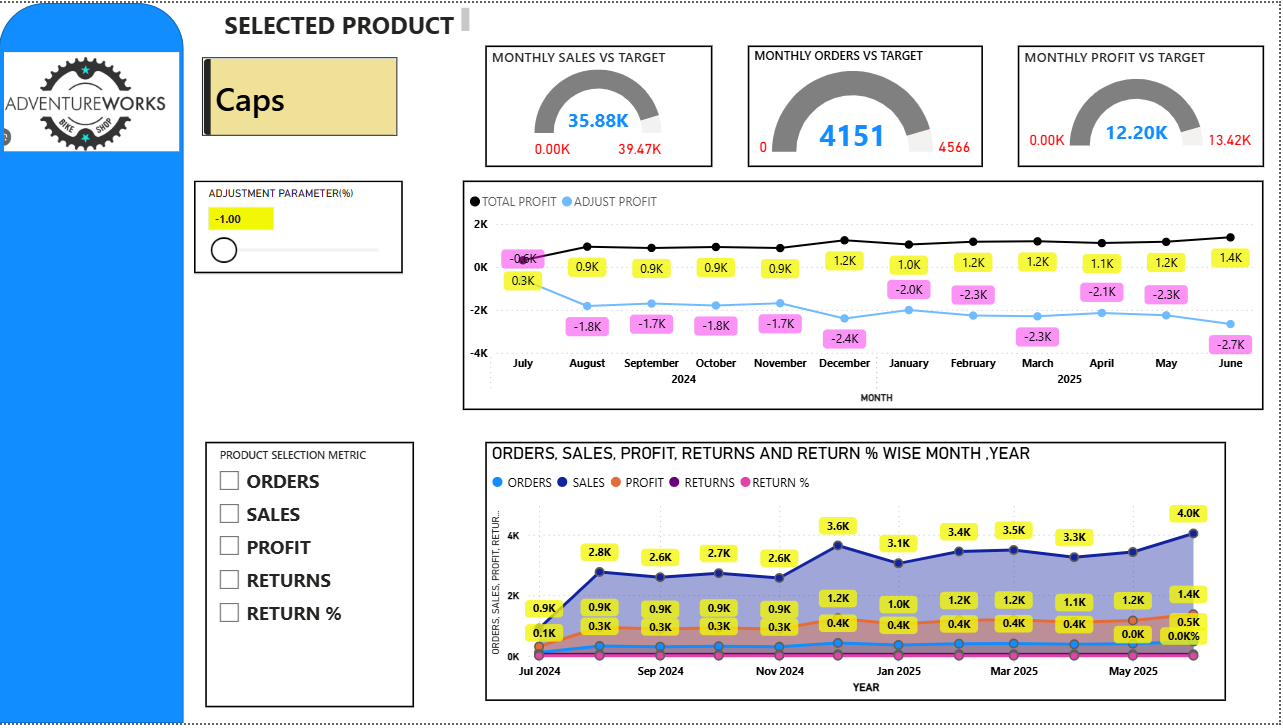

What the dashboard file says about the page in this screenshot:
{"tool":"powerbi","page":{"name":" SUB. PRODUCT ANALYSIS","canvas":[1280,720],"ordinal":3},"visuals":[{"type":"shape","box":[0,0,184.6,720.2],"z":0},{"type":"image","box":[4.8,47.1,174.9,102.5],"z":1000},{"type":"textbox","box":[219.6,0,255.8,37.4],"z":2000},{"type":"cardVisual","fields":{"Data":["Min(Product Subcategories Lookup csv.SubcategoryName)"]},"box":[185.8,37.4,229.2,112.2],"z":3000},{"type":"gauge","title":"MONTHLY SALES VS TARGET","fields":{"Y":["ALL MEASURES.TOTAL SALES"],"MaxValue":["ALL MEASURES.TARGET SALES"]},"box":[486.2,42.2,226.8,121.9],"z":4000},{"type":"gauge","title":"MONTHLY ORDERS VS TARGET","fields":{"Y":["ALL MEASURES.TOTAL ORDERS"],"MaxValue":["ALL MEASURES.TARGET ORDER"]},"box":[749.2,42.2,235.3,121.9],"z":5000},{"type":"gauge","title":"MONTHLY PROFIT VS TARGET","fields":{"Y":["ALL MEASURES.TOTAL PROFIT"],"MaxValue":["ALL MEASURES.TARGET PROFIT"]},"box":[1018.2,42.2,246.1,121.9],"z":6000},{"type":"slicer","fields":{"Values":["ADJUSTMENT PARAMETER(%).ADJUSTMENT PARAMETER(%)"]},"box":[195.4,177.3,208.7,92.9],"z":7000},{"type":"lineChart","fields":{"Y":["ALL MEASURES.TOTAL PROFIT","ALL MEASURES.ADJUST PROFIT"],"Category":["Calendar Lookup (1) csv.start of month.Variation.Date Hierarchy.Year","Calendar Lookup (1) csv.start of month.Variation.Date Hierarchy.Month"]},"box":[463.3,177.3,801.1,229.2],"z":8000},{"type":"areaChart","title":" ORDERS,  SALES,  PROFIT,  RETURNS AND RETURN %  WISE MONTH ,YEAR","fields":{"Y":["ALL MEASURES.TOTAL ORDERS","ALL MEASURES.TOTAL SALES","ALL MEASURES.TOTAL PROFIT","ALL MEASURES.TOTAL RETURNS","ALL MEASURES.RETURN %"],"Category":["Calendar Lookup (1) csv.start of month.Variation.Date Hierarchy.Year","Calendar Lookup (1) csv.start of month.Variation.Date Hierarchy.Month"]},"box":[486.2,439.1,740.8,259.4],"z":9000},{"type":"slicer","fields":{"Values":["PRODUCT SELECTION METRIC.PRODUCT SELECTION METRIC"]},"box":[206.3,439.1,208.7,265.4],"z":10000}]}

Visuals, with their boxes in screenshot pixels (x1, y1, x2, y2), scaled from the page's 1280x720 canvas onto the 1283x728 screenshot:
shape: Rect(0, 0, 185, 727)
image: Rect(5, 48, 180, 151)
textbox: Rect(220, 0, 477, 38)
cardVisual - Min(Product Subcategories Lookup csv.SubcategoryName): Rect(186, 38, 416, 151)
"MONTHLY SALES VS TARGET" gauge: Rect(487, 43, 715, 166)
"MONTHLY ORDERS VS TARGET" gauge: Rect(751, 43, 987, 166)
"MONTHLY PROFIT VS TARGET" gauge: Rect(1021, 43, 1267, 166)
slicer - ADJUSTMENT PARAMETER(%).ADJUSTMENT PARAMETER(%): Rect(196, 179, 405, 273)
lineChart - ALL MEASURES.TOTAL PROFIT x ALL MEASURES.ADJUST PROFIT: Rect(464, 179, 1267, 411)
" ORDERS,  SALES,  PROFIT,  RETURNS AND RETURN %  WISE MONTH ,YEAR" areaChart: Rect(487, 444, 1230, 706)
slicer - PRODUCT SELECTION METRIC.PRODUCT SELECTION METRIC: Rect(207, 444, 416, 712)
